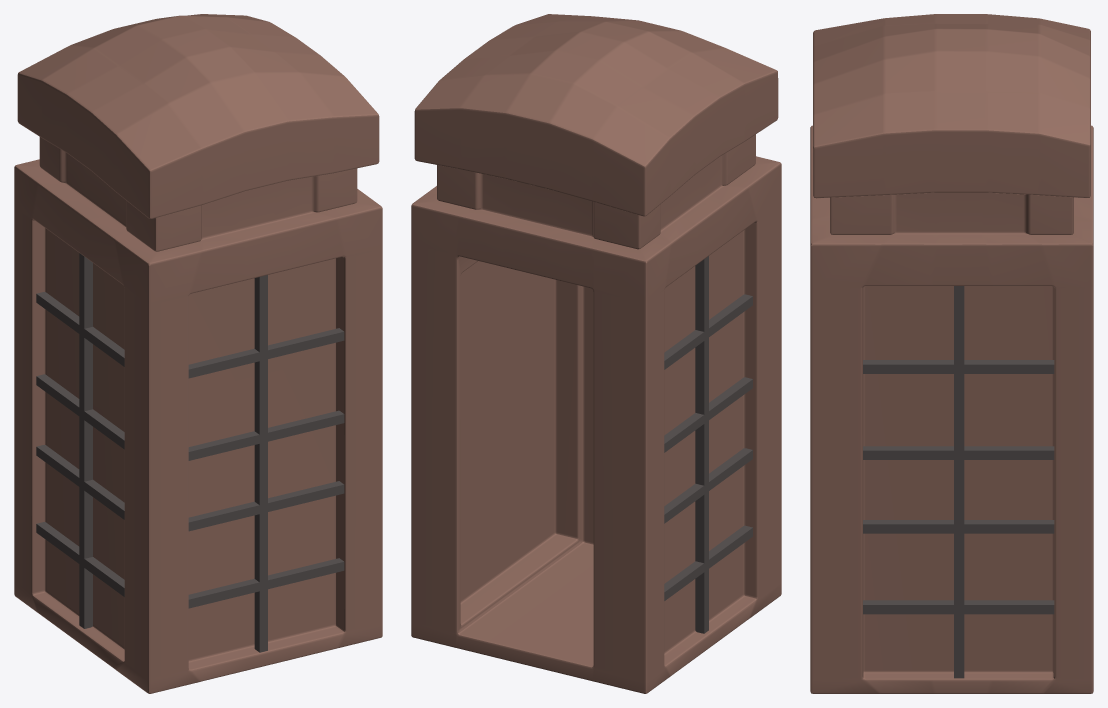
File: phone.fbx
3 views of the same model, side by side, from view 1: azimuth 30°, elevation 25°; view 2: azimuth 150°, elevation 25°; view 3: azimuth 270°, elevation 25° (orthographic). The views are drawn at different scales.
Parts seen in each view (by area): view 1: pCube1, pCube19, pCube18; view 2: pCube1, pCube18; view 3: pCube1, pCube17.
Boxes of the visible parts, box(x1,y1,x2,y2) form: pCube1: box(14, 14, 382, 693); pCube19: box(188, 275, 344, 652); pCube18: box(36, 253, 124, 628); pCube1: box(411, 14, 781, 693); pCube18: box(664, 256, 752, 633); pCube1: box(810, 14, 1093, 693); pCube17: box(863, 286, 1054, 678).
Size of the model in its own units: 23.21 by 53.9 by 23.21.
